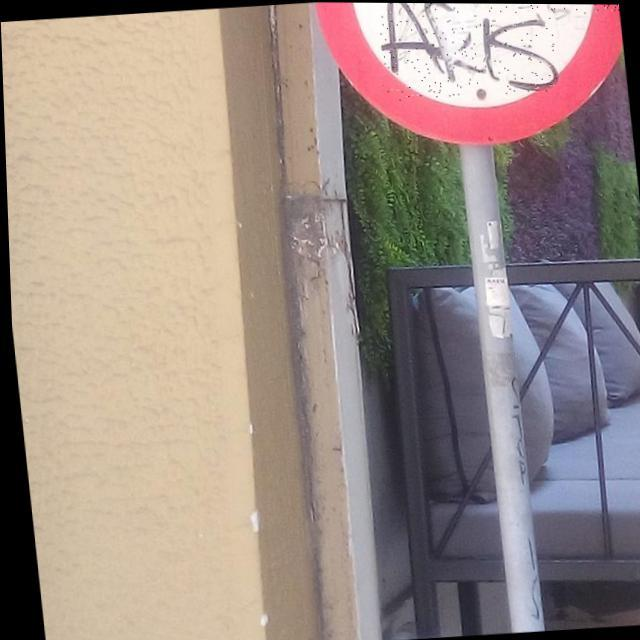-: (376, 2, 559, 101), (545, 4, 619, 15)
